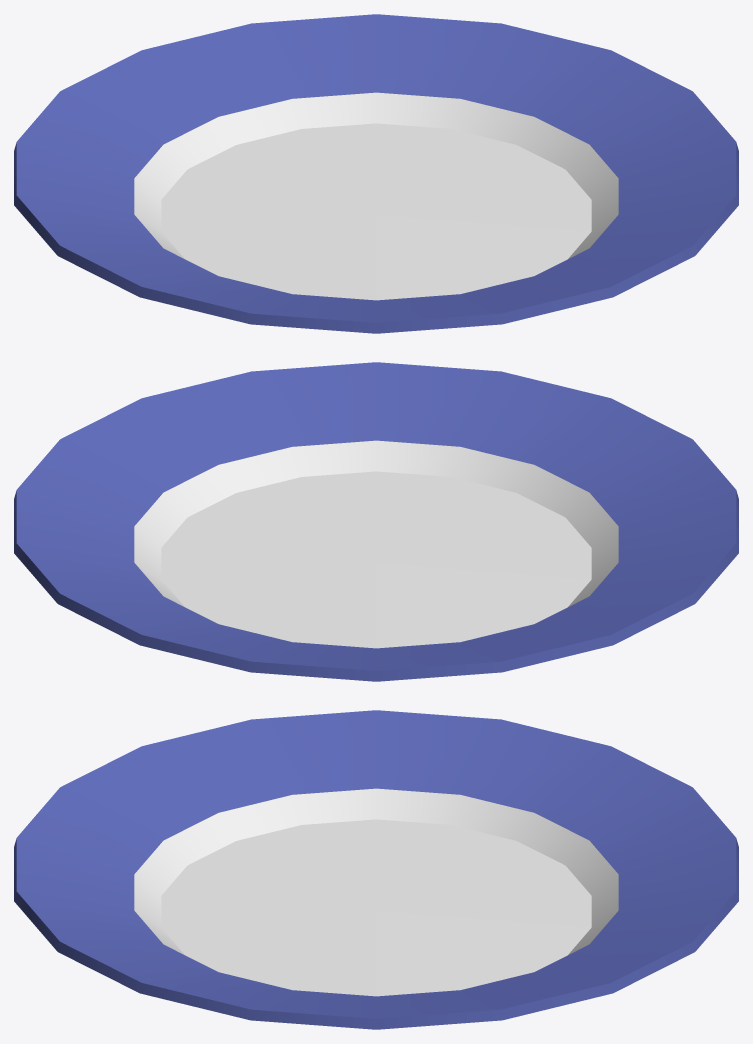
Rendered from ThrowProp_LargePlate_01.FBX.
3 views of the same model, one above another, from view 1: azimuth 30°, elevation 25°; view 2: azimuth 150°, elevation 25°; view 3: azimuth 270°, elevation 25° (orthographic).
Parts seen in each view (by area): view 1: GroteTallore; view 2: GroteTallore; view 3: GroteTallore.
Part boxes in pixels (x1,y1,x2,y2): GroteTallore: [14, 14, 738, 333]; GroteTallore: [14, 362, 738, 681]; GroteTallore: [14, 710, 738, 1029].
Bounding box in the file's own units: 26 × 2.2 × 25.6.
Materials: 1 (1 with a texture image).
